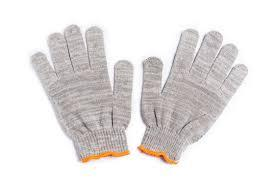Gloves: (24, 19, 136, 169), (139, 20, 252, 166)
